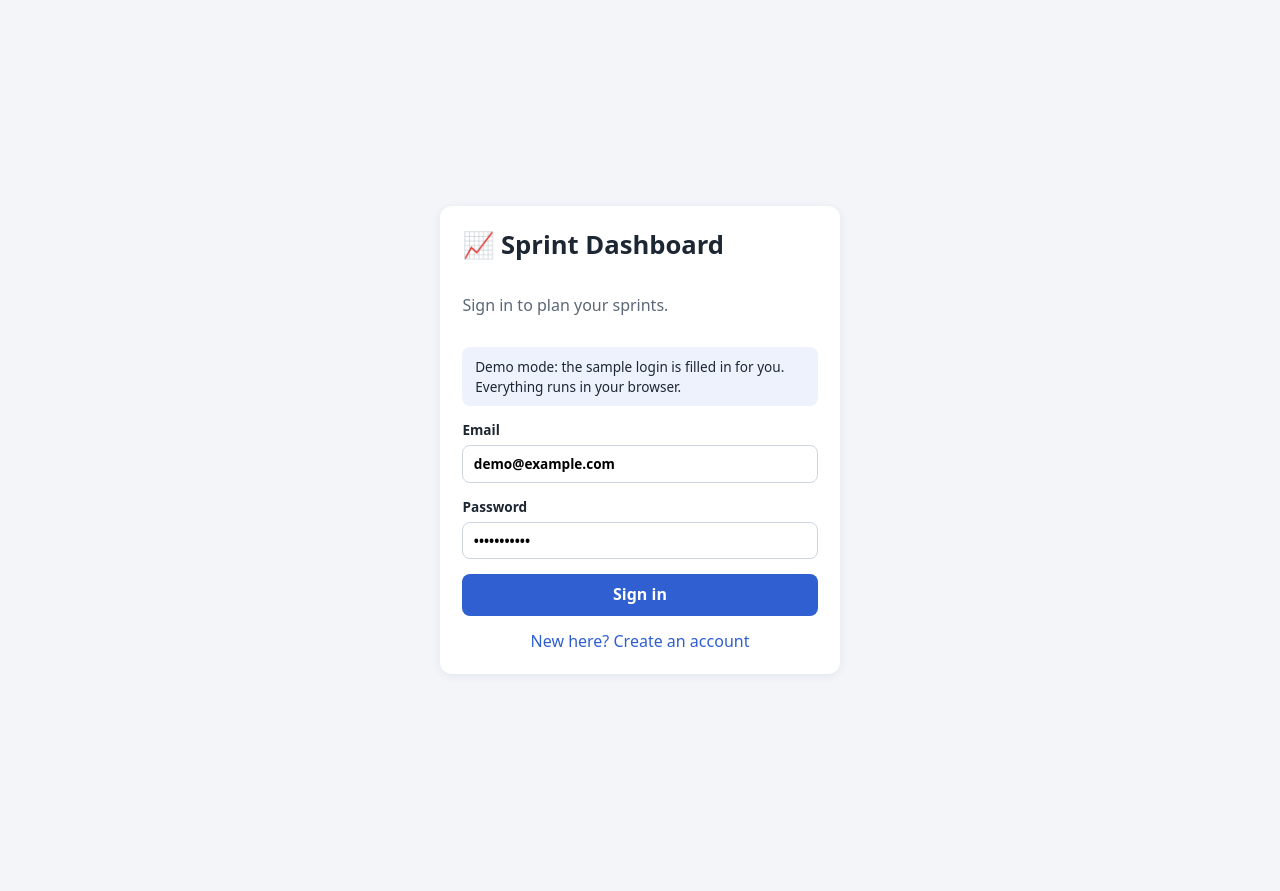
Test case: Sprint Dashboard › adds a story to the backlog
Click the button "Sign in" at (640, 595), box [462,574,818,616]
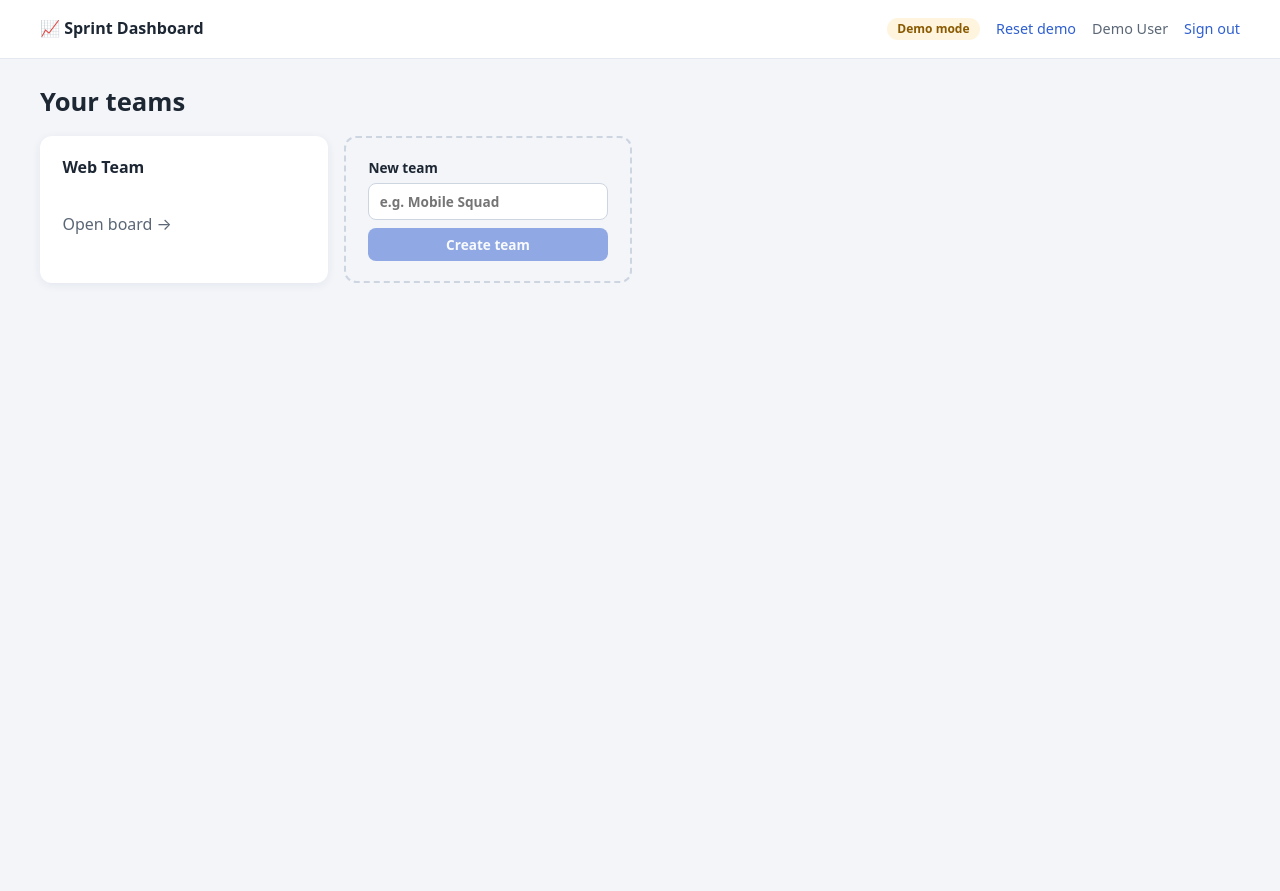
Click the text "Web Team" at (103, 167), box [62,156,144,178]
(page scrolled)
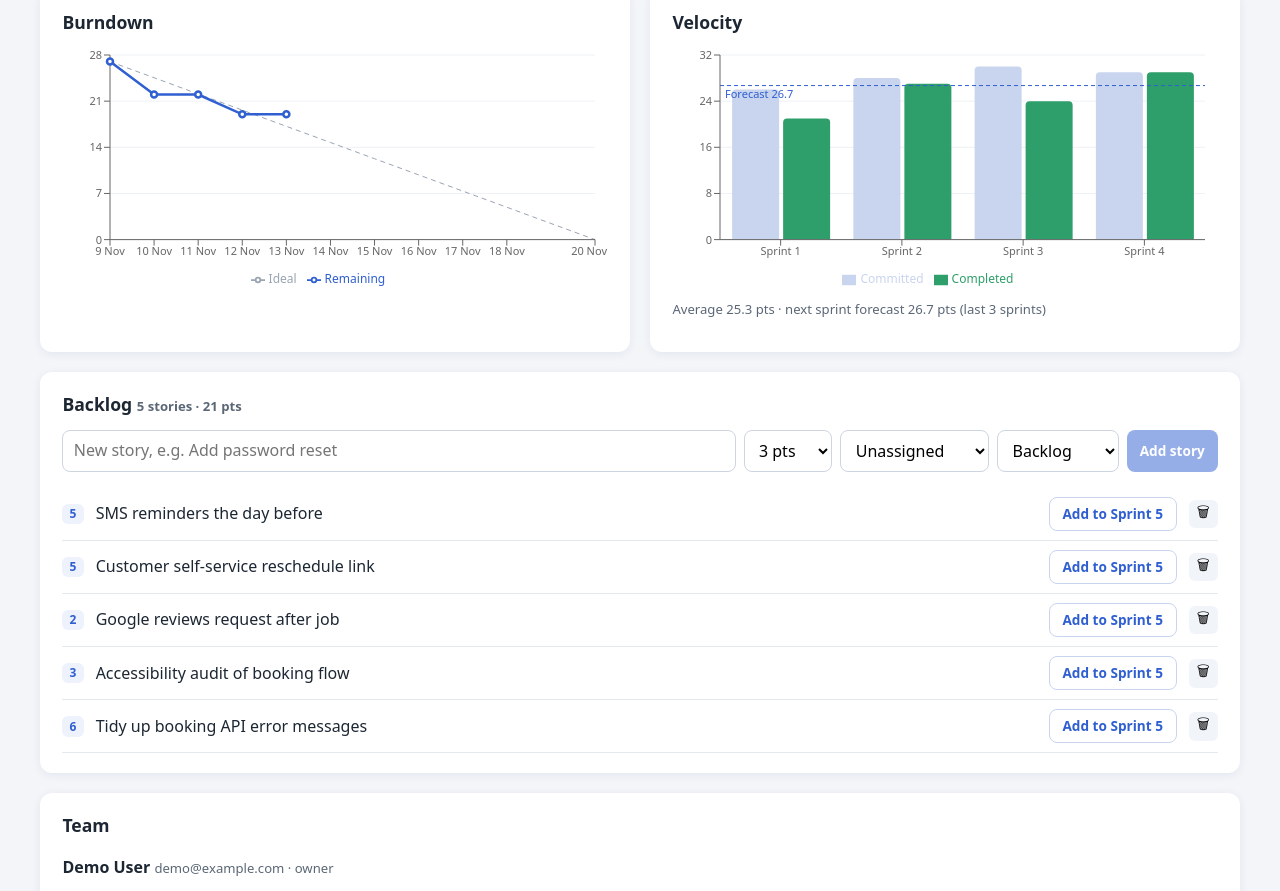
Type "Dark mode" into the field named "Story title" at (399, 451), box [62,430,736,472]
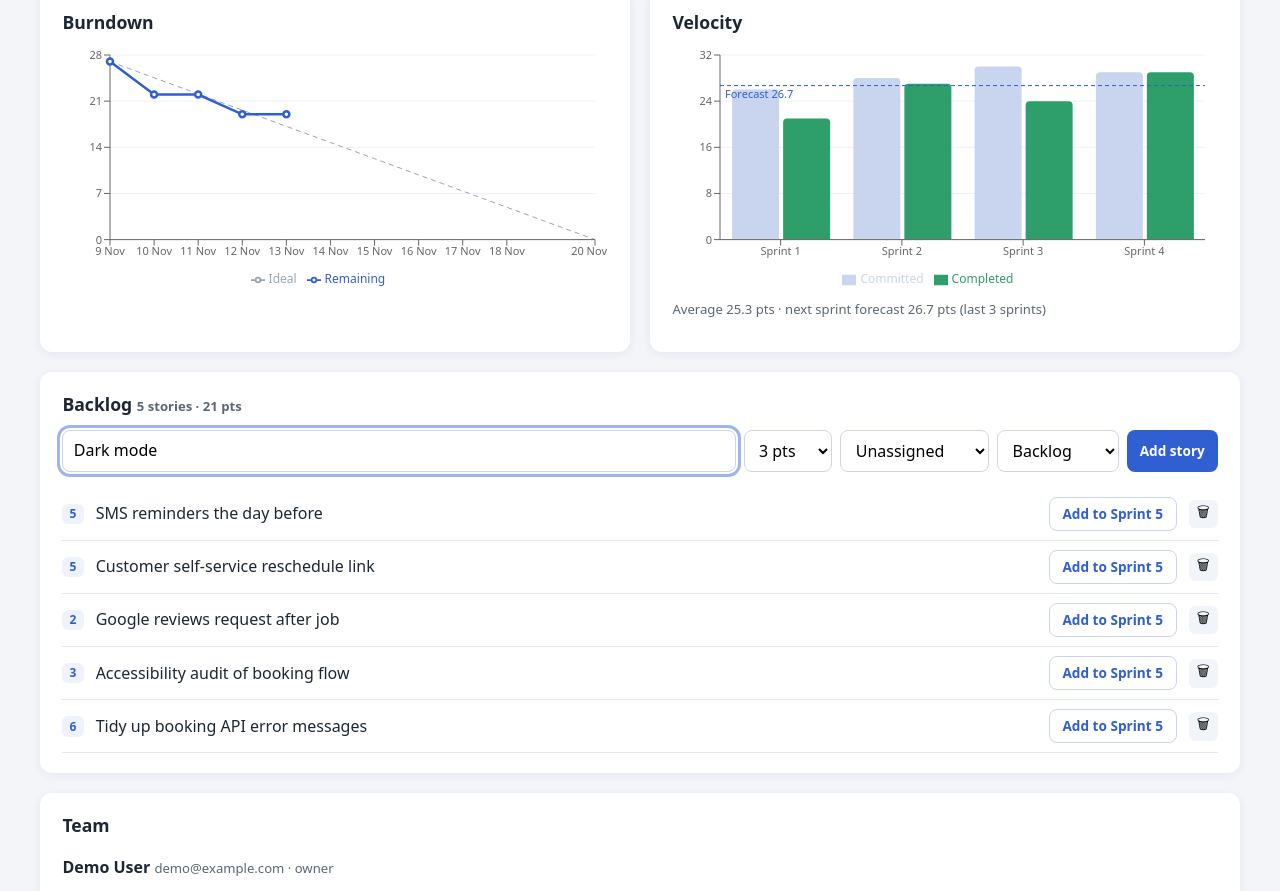
Click the button "Add story" at (1172, 451), box [1127,430,1218,472]
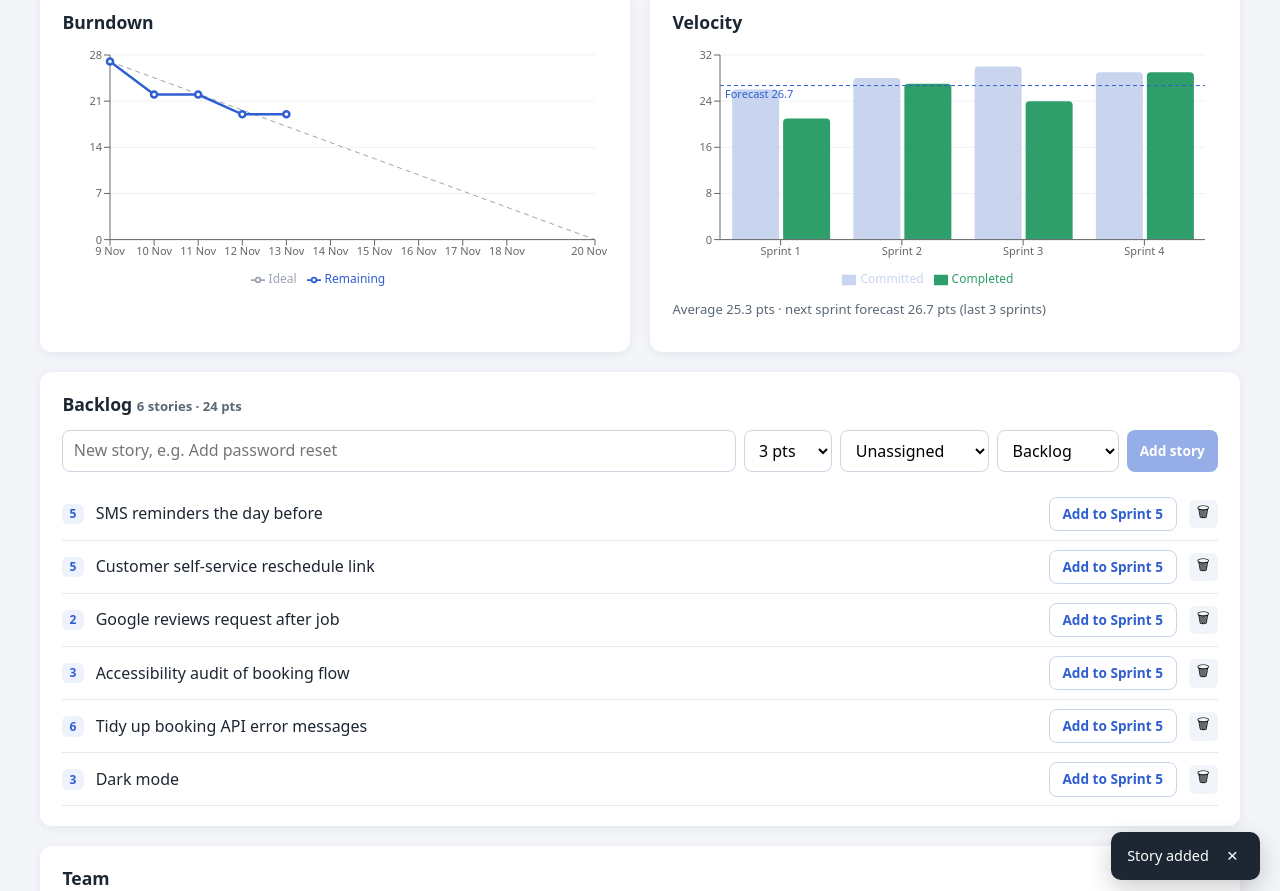
Now the text "Dark mode" is shown, box [96,768,179,790]
